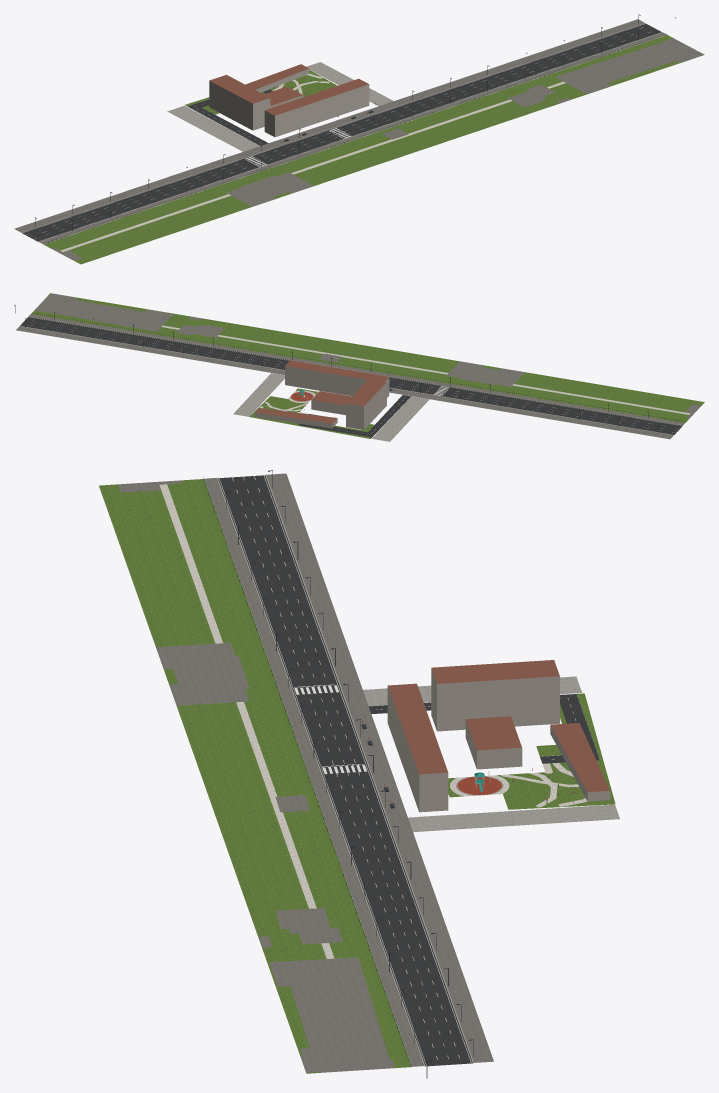
The model's file is site.glb.
3 views of the same model, one above another, from view 1: azimuth 30°, elevation 25°; view 2: azimuth 150°, elevation 25°; view 3: azimuth 270°, elevation 25° (orthographic). The views are drawn at different scales.
Visible parts, largest first — view 1: S_ground, S_road, S_before, S_marks, S_furniture; view 2: S_ground, S_road, S_before, S_marks, S_furniture; view 3: S_ground, S_road, S_before, S_marks, S_furniture.
Boxes of the visible parts, x1,y1,x2,y2 form: S_ground: (14, 19, 704, 264); S_road: (21, 23, 662, 241); S_before: (209, 64, 369, 137); S_marks: (22, 23, 649, 241); S_furniture: (35, 14, 676, 242); S_ground: (16, 293, 704, 441); S_road: (19, 316, 682, 437); S_before: (255, 360, 389, 429); S_marks: (20, 317, 680, 434); S_furniture: (14, 305, 684, 432); S_ground: (99, 473, 619, 1073); S_road: (217, 474, 599, 1066); S_before: (387, 660, 610, 812); S_marks: (219, 475, 575, 1065); S_furniture: (203, 470, 573, 1078).
Bounding box in the file's own units: 438 × 16.01 × 159.
Materials: 18 (7 with a texture image).
